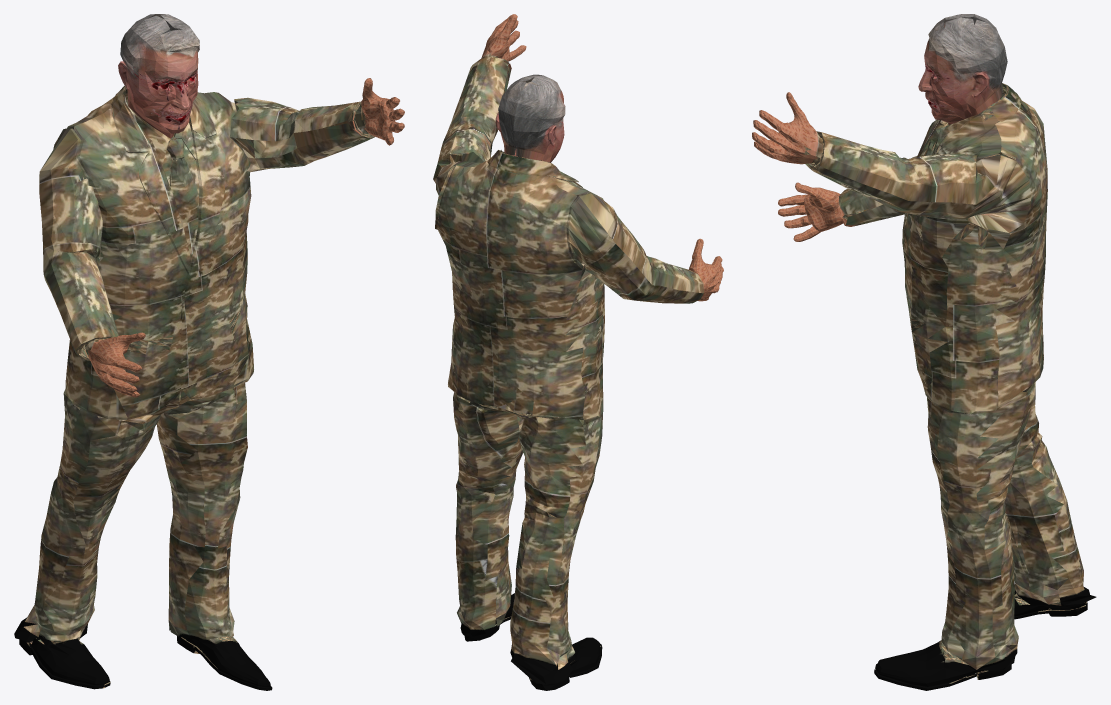
The model's file is zombie_000049.obj.
3 views of the same model, side by side, from view 1: azimuth 30°, elevation 25°; view 2: azimuth 150°, elevation 25°; view 3: azimuth 270°, elevation 25° (orthographic). The views are drawn at different scales.
Visible parts, largest first — view 1: Suit_coat_orig_9___De, objGeo_Hea_orig_9___D; view 2: Suit_coat_orig_9___De, objGeo_Hea_orig_9___D; view 3: Suit_coat_orig_9___De, objGeo_Hea_orig_9___D.
Boxes of the visible parts, x1,y1,x2,y2 form: Suit_coat_orig_9___De: (14,78,404,690); objGeo_Hea_orig_9___D: (118,14,199,138); Suit_coat_orig_9___De: (433,14,723,690); objGeo_Hea_orig_9___D: (495,74,565,162); Suit_coat_orig_9___De: (752,83,1096,690); objGeo_Hea_orig_9___D: (918,14,1007,124).
Bounding box in the file's own units: 0.8671 × 1.89 × 0.9293.
